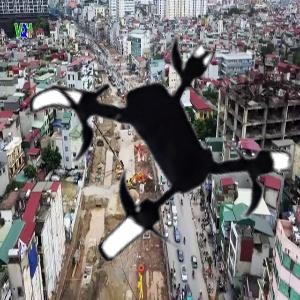drone: (15, 20, 288, 293)
